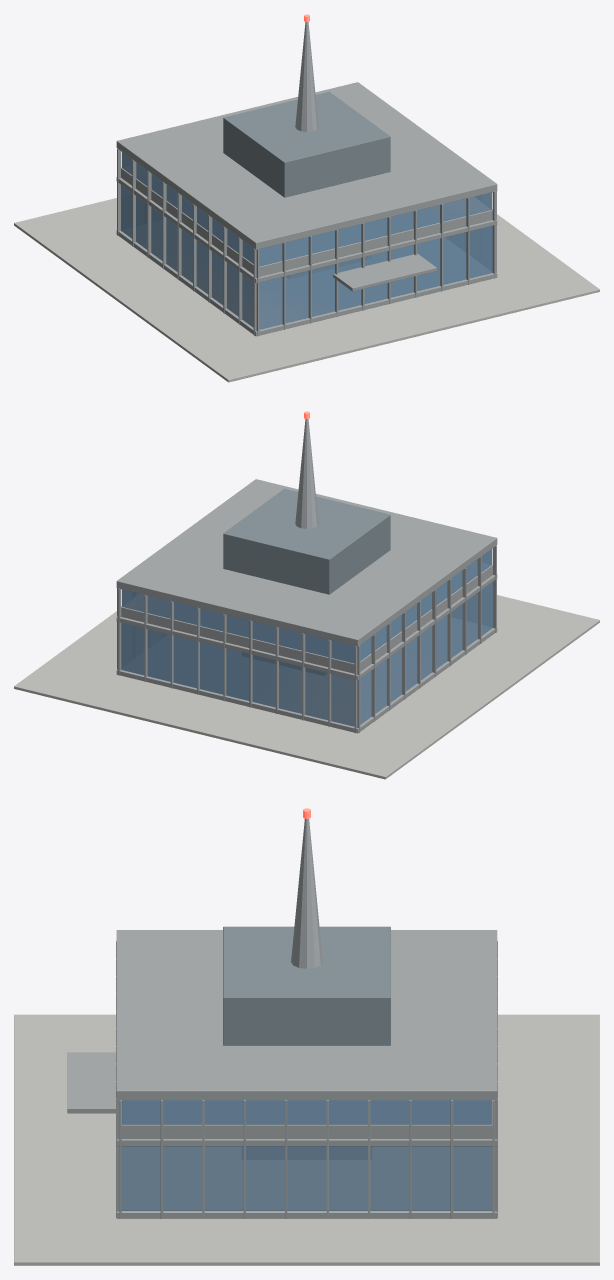
Rendered from a-low-poly-9-m-tall-stone-research-building-with-an-antenna-181-lowpoly.glb.
The picture shows the model from 3 angles, top to bottom: view 1: azimuth 30°, elevation 25°; view 2: azimuth 150°, elevation 25°; view 3: azimuth 270°, elevation 25°; orthographic projection. The views are drawn at different scales.
Parts seen in each view (by area): view 1: building; view 2: building; view 3: building.
Part boxes in pixels (x1,y1,x2,y2): building: (14, 14, 599, 382); building: (14, 411, 599, 779); building: (14, 808, 599, 1265).
Size of the model in its own units: 44 by 27.5 by 44.
